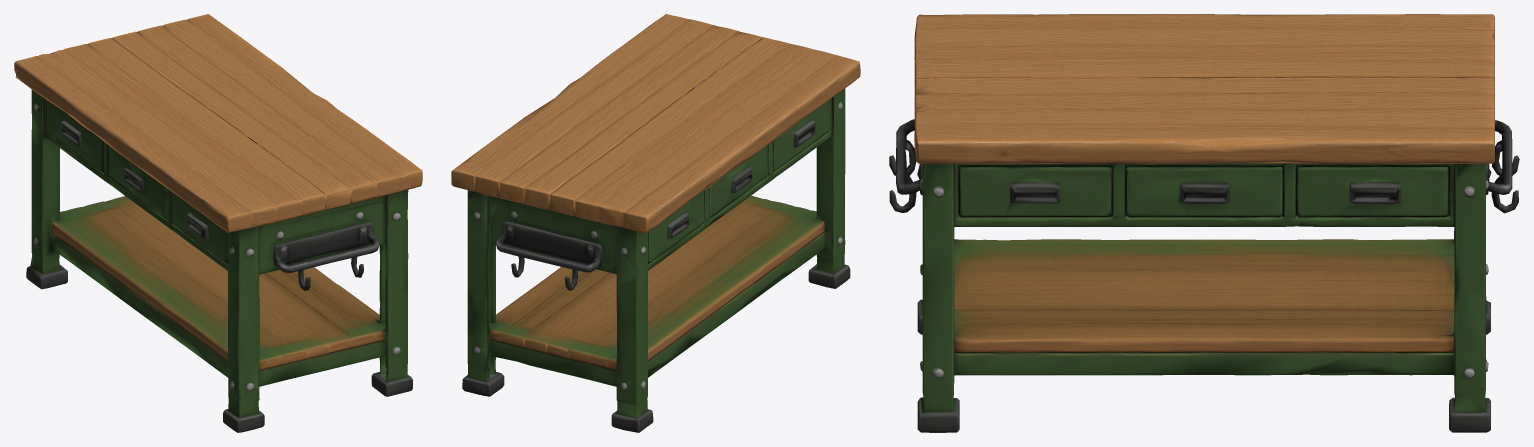
File: wooden+workbench+3d+model.glb
3 views of the same model, side by side, from view 1: azimuth 30°, elevation 25°; view 2: azimuth 150°, elevation 25°; view 3: azimuth 270°, elevation 25° (orthographic). The views are drawn at different scales.
Parts seen in each view (by area): view 1: tripo_node_bb0dce57-f597-473d-a349-f1cdfad0e1f5; view 2: tripo_node_bb0dce57-f597-473d-a349-f1cdfad0e1f5; view 3: tripo_node_bb0dce57-f597-473d-a349-f1cdfad0e1f5.
Boxes of the visible parts, box(x1,y1,x2,y2) form: tripo_node_bb0dce57-f597-473d-a349-f1cdfad0e1f5: box(14, 14, 422, 432); tripo_node_bb0dce57-f597-473d-a349-f1cdfad0e1f5: box(451, 14, 860, 432); tripo_node_bb0dce57-f597-473d-a349-f1cdfad0e1f5: box(889, 14, 1519, 432).
Bounding box in the file's own units: 0.4757 × 0.5099 × 0.9787.
1 material, 1 textured.
